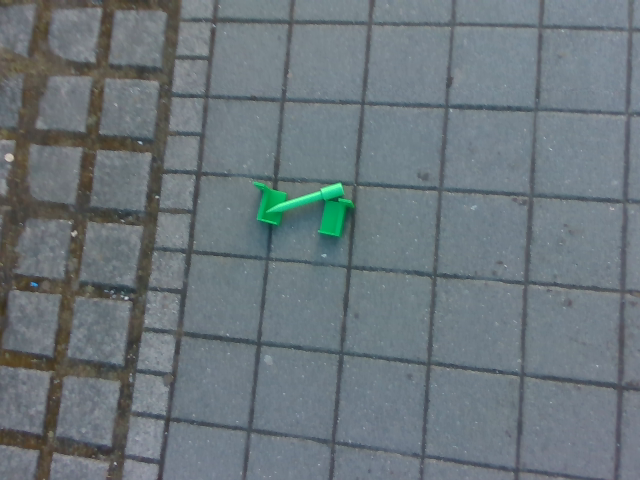Probe: (263, 179, 345, 219)
